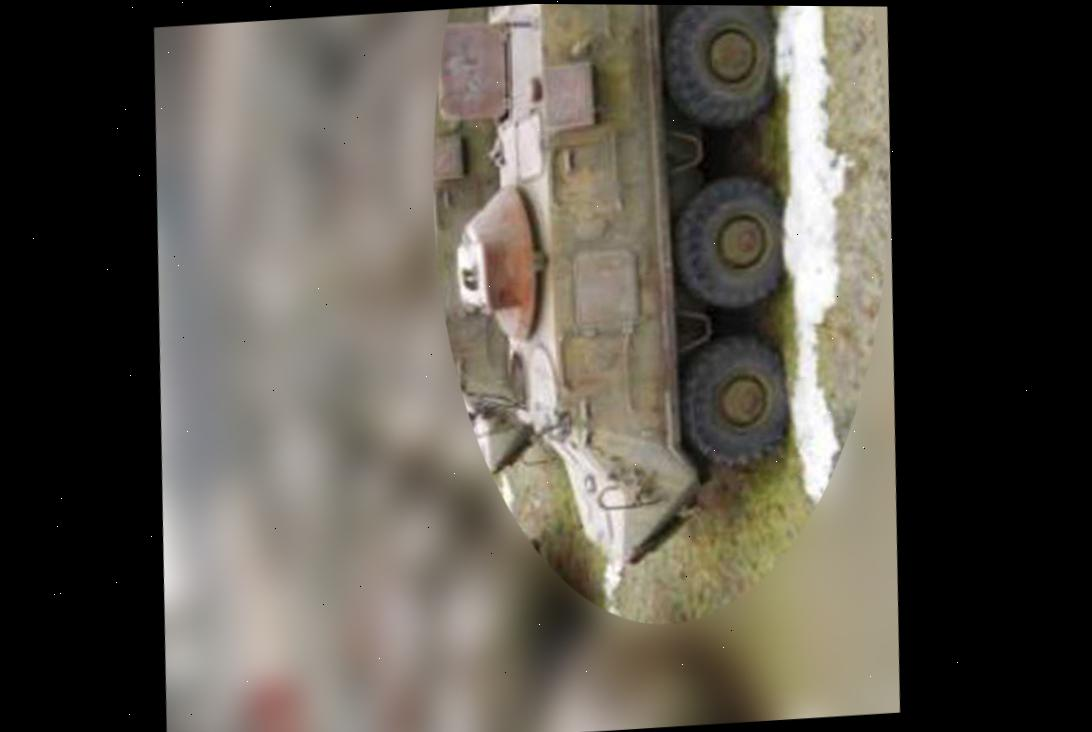armored_car: (400, 3, 824, 597)
